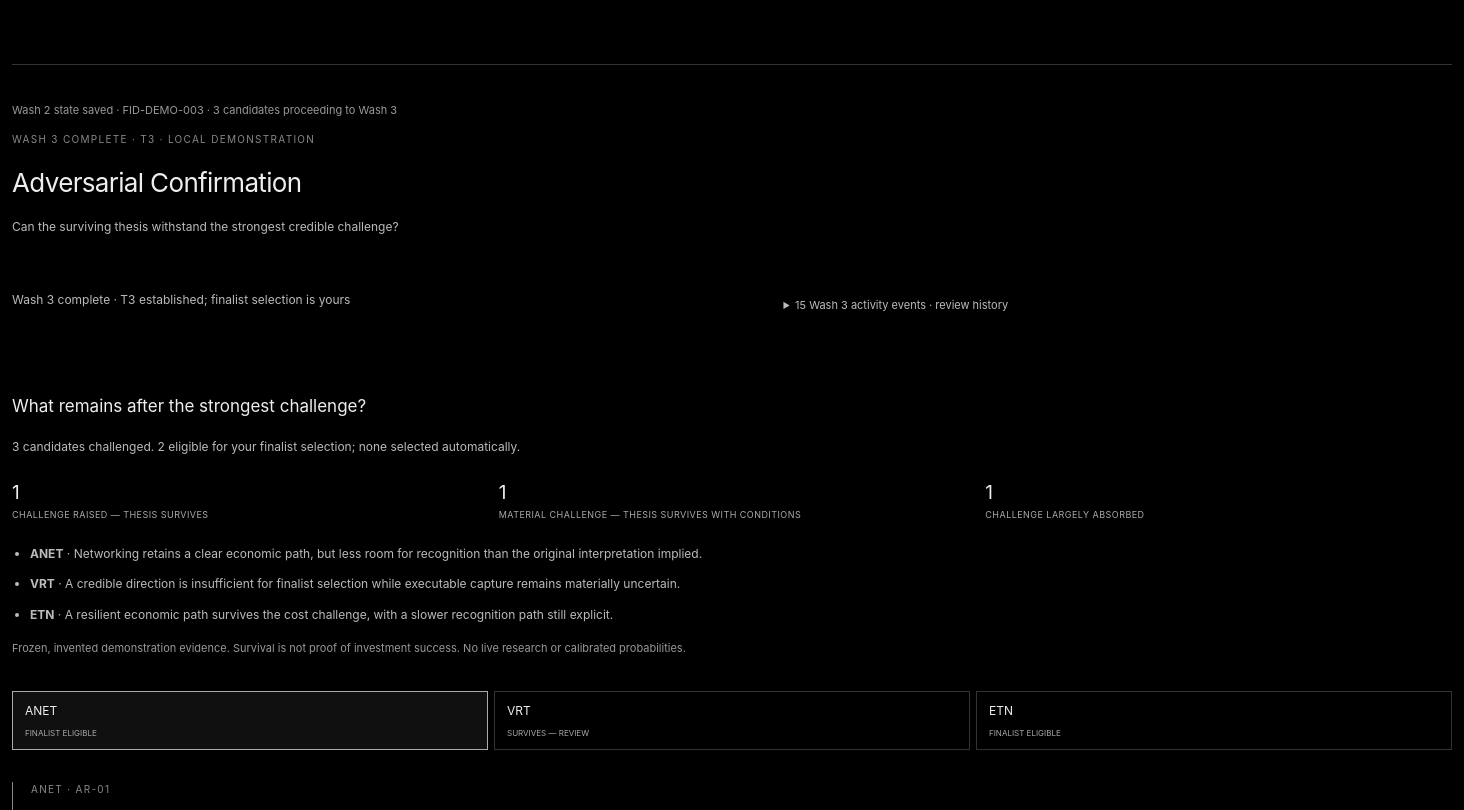
it: Wash 3 analytical surfaces › keeps alternative discrimination, inherited expectations and directional/timing states explicit
Click the button with aria-label "Select VRT adversarial review": {"x": 548, "y": 733} [494,691,970,750]
(page scrolled)
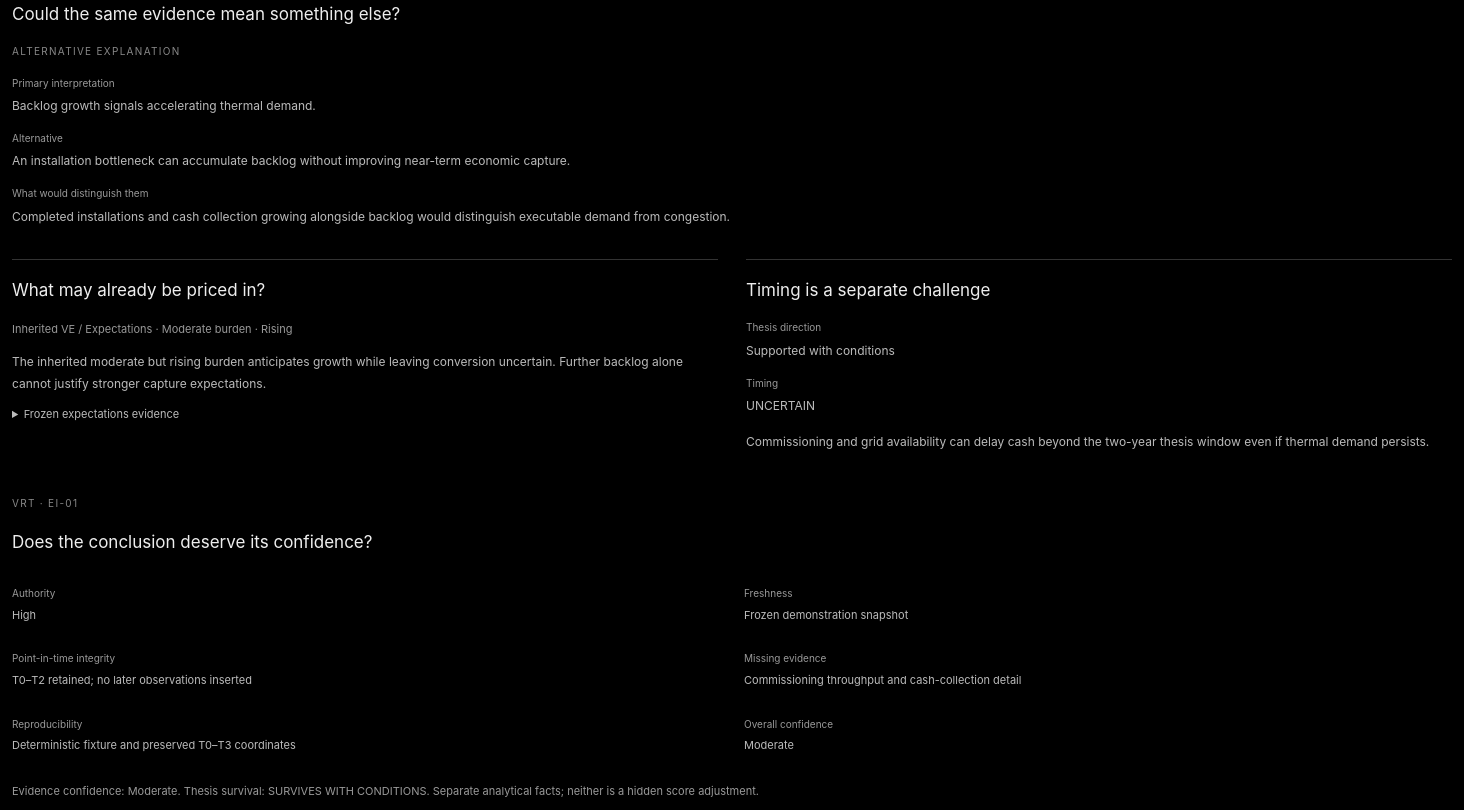
Expected: the text "Supported with conditions" is shown, [746,343,895,358]
Expected: the text "UNCERTAIN" is shown, [746,398,815,413]
